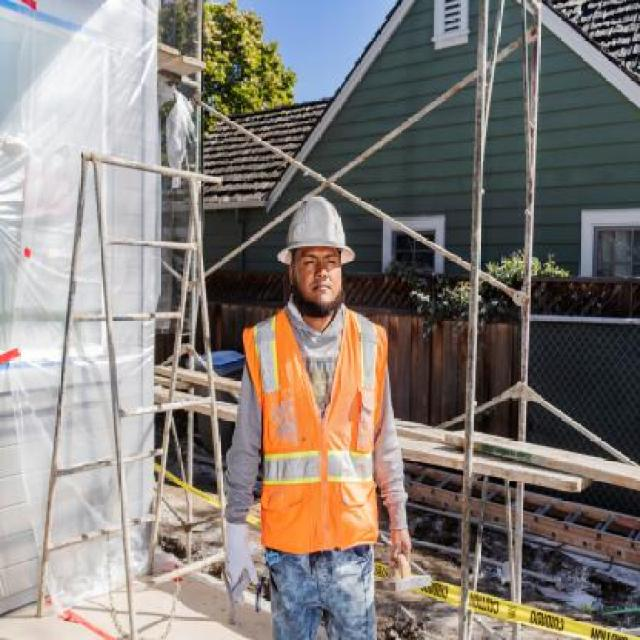Gloves: (219, 521, 259, 608)
Vest: (255, 301, 379, 548)
helmet: (278, 194, 354, 264)
person: (224, 195, 414, 640)
